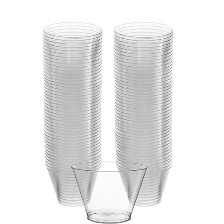glass: (110, 13, 179, 206), (40, 16, 104, 207), (64, 156, 150, 224)
